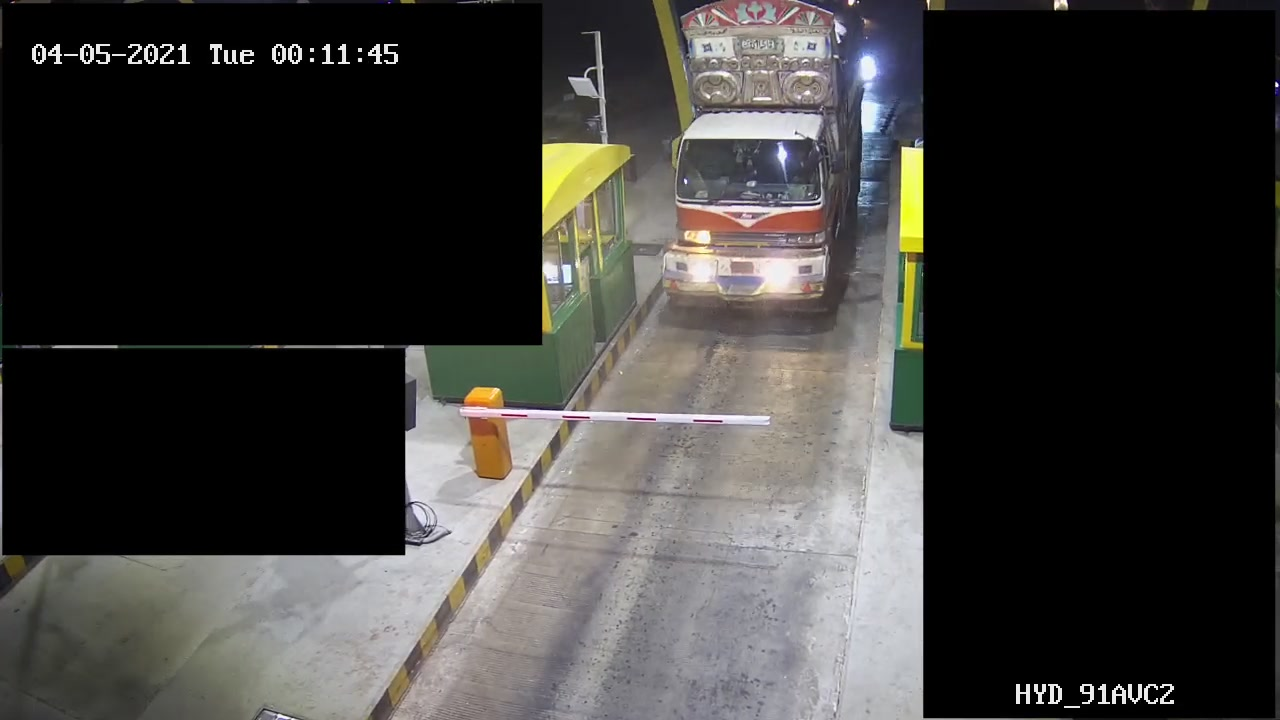F5: (657, 1, 872, 324)
